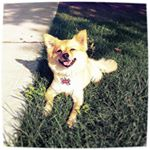puppy: (35, 27, 122, 131)
